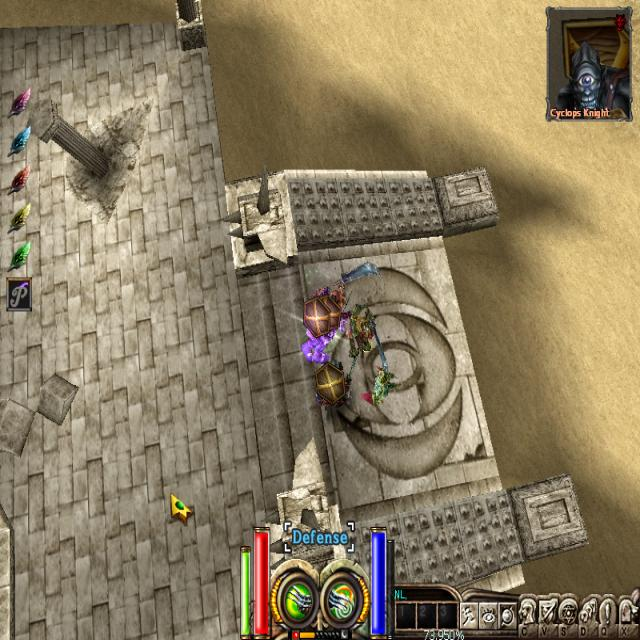monster: (358, 352, 390, 411), (314, 359, 349, 403), (326, 279, 354, 329), (347, 306, 374, 352), (305, 296, 324, 347)
